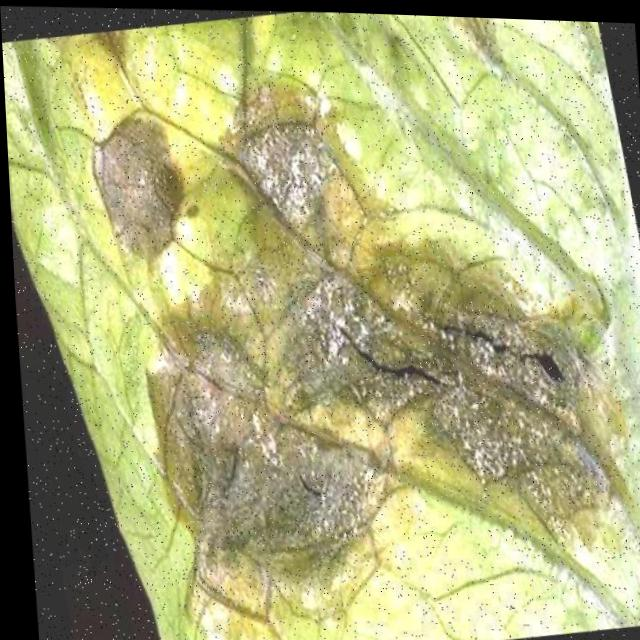Bad: (111, 13, 637, 640)
